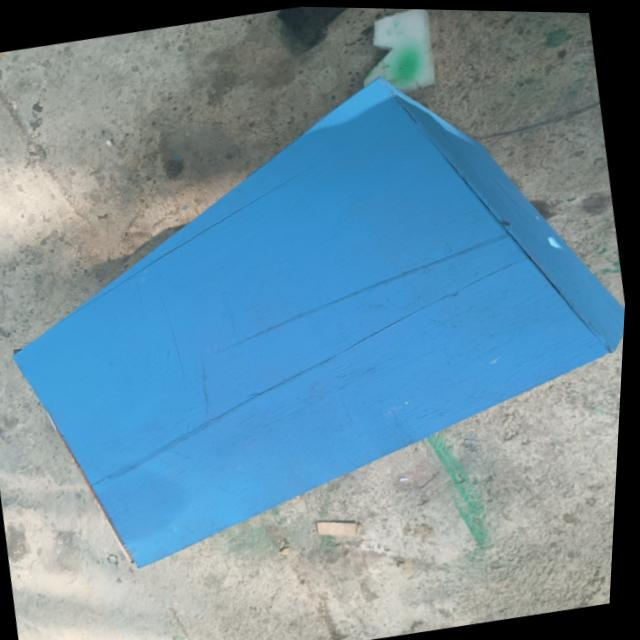blue_box: (0, 28, 639, 590)
